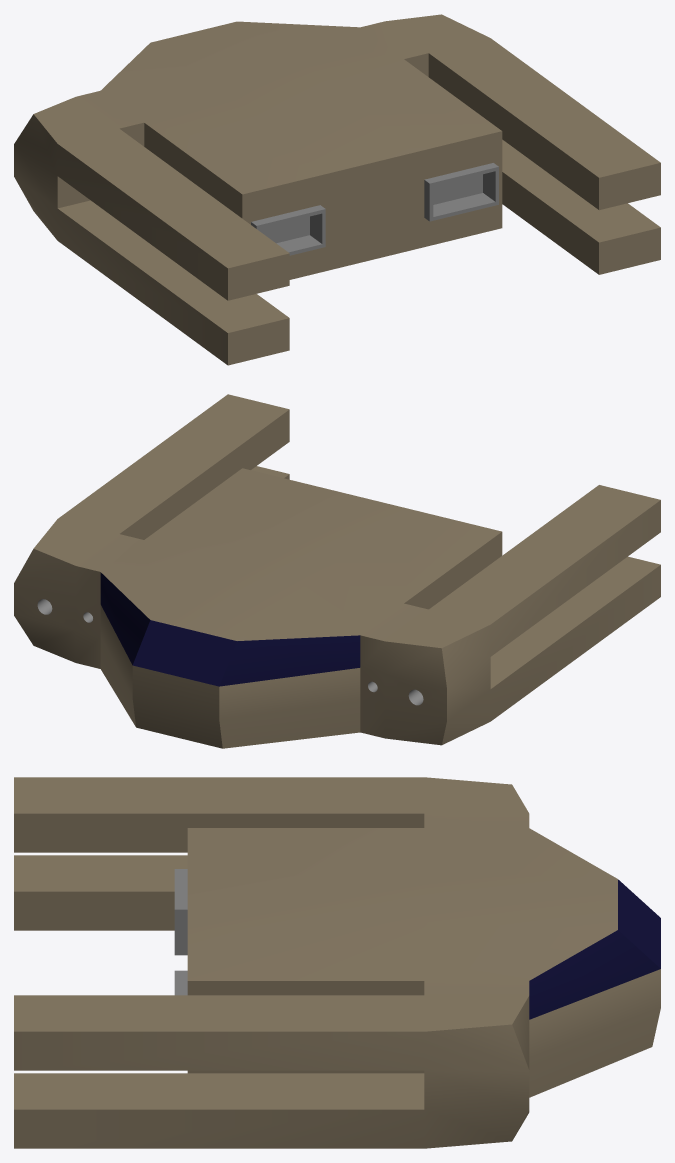
File: EnemyShip.fbx
The picture shows the model from 3 angles, top to bottom: view 1: azimuth 30°, elevation 25°; view 2: azimuth 150°, elevation 25°; view 3: azimuth 270°, elevation 25°; orthographic projection. The views are drawn at different scales.
Visible parts, largest first — view 1: Cube; view 2: Cube; view 3: Cube.
Part boxes in pixels (left/top/right/bottom): Cube: left=14, top=14, right=660, bottom=365; Cube: left=14, top=394, right=660, bottom=748; Cube: left=14, top=777, right=660, bottom=1148.
Bounding box in the file's own units: 350 × 80 × 376.
